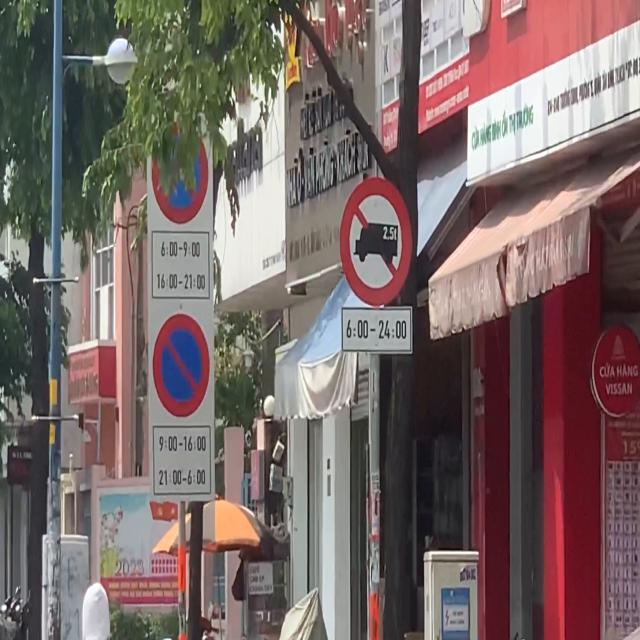Cam con lai: (339, 176, 413, 308)
Cam do: (152, 314, 210, 418)
Cam dung va do: (152, 120, 208, 225)
